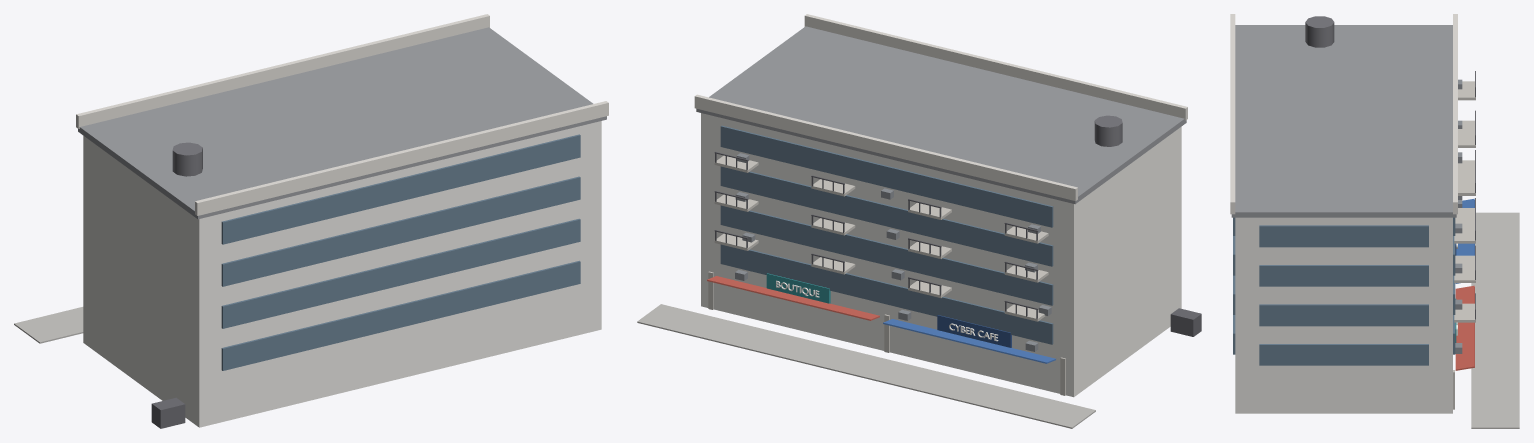
Rendered from wuse2_block_2.glb.
3 renders of one model, left to right at view 1: azimuth 30°, elevation 25°; view 2: azimuth 150°, elevation 25°; view 3: azimuth 270°, elevation 25°, orthographic. The views are drawn at different scales.
Visible parts, largest first — view 1: BLD_wuse2_block_2; view 2: BLD_wuse2_block_2; view 3: BLD_wuse2_block_2.
Boxes of the visible parts, <box> form: BLD_wuse2_block_2: <box>14,14,608,428</box>; BLD_wuse2_block_2: <box>637,14,1201,428</box>; BLD_wuse2_block_2: <box>1230,14,1519,428</box>.
Bounding box in the file's own units: 42 × 20.3 × 23.9.
